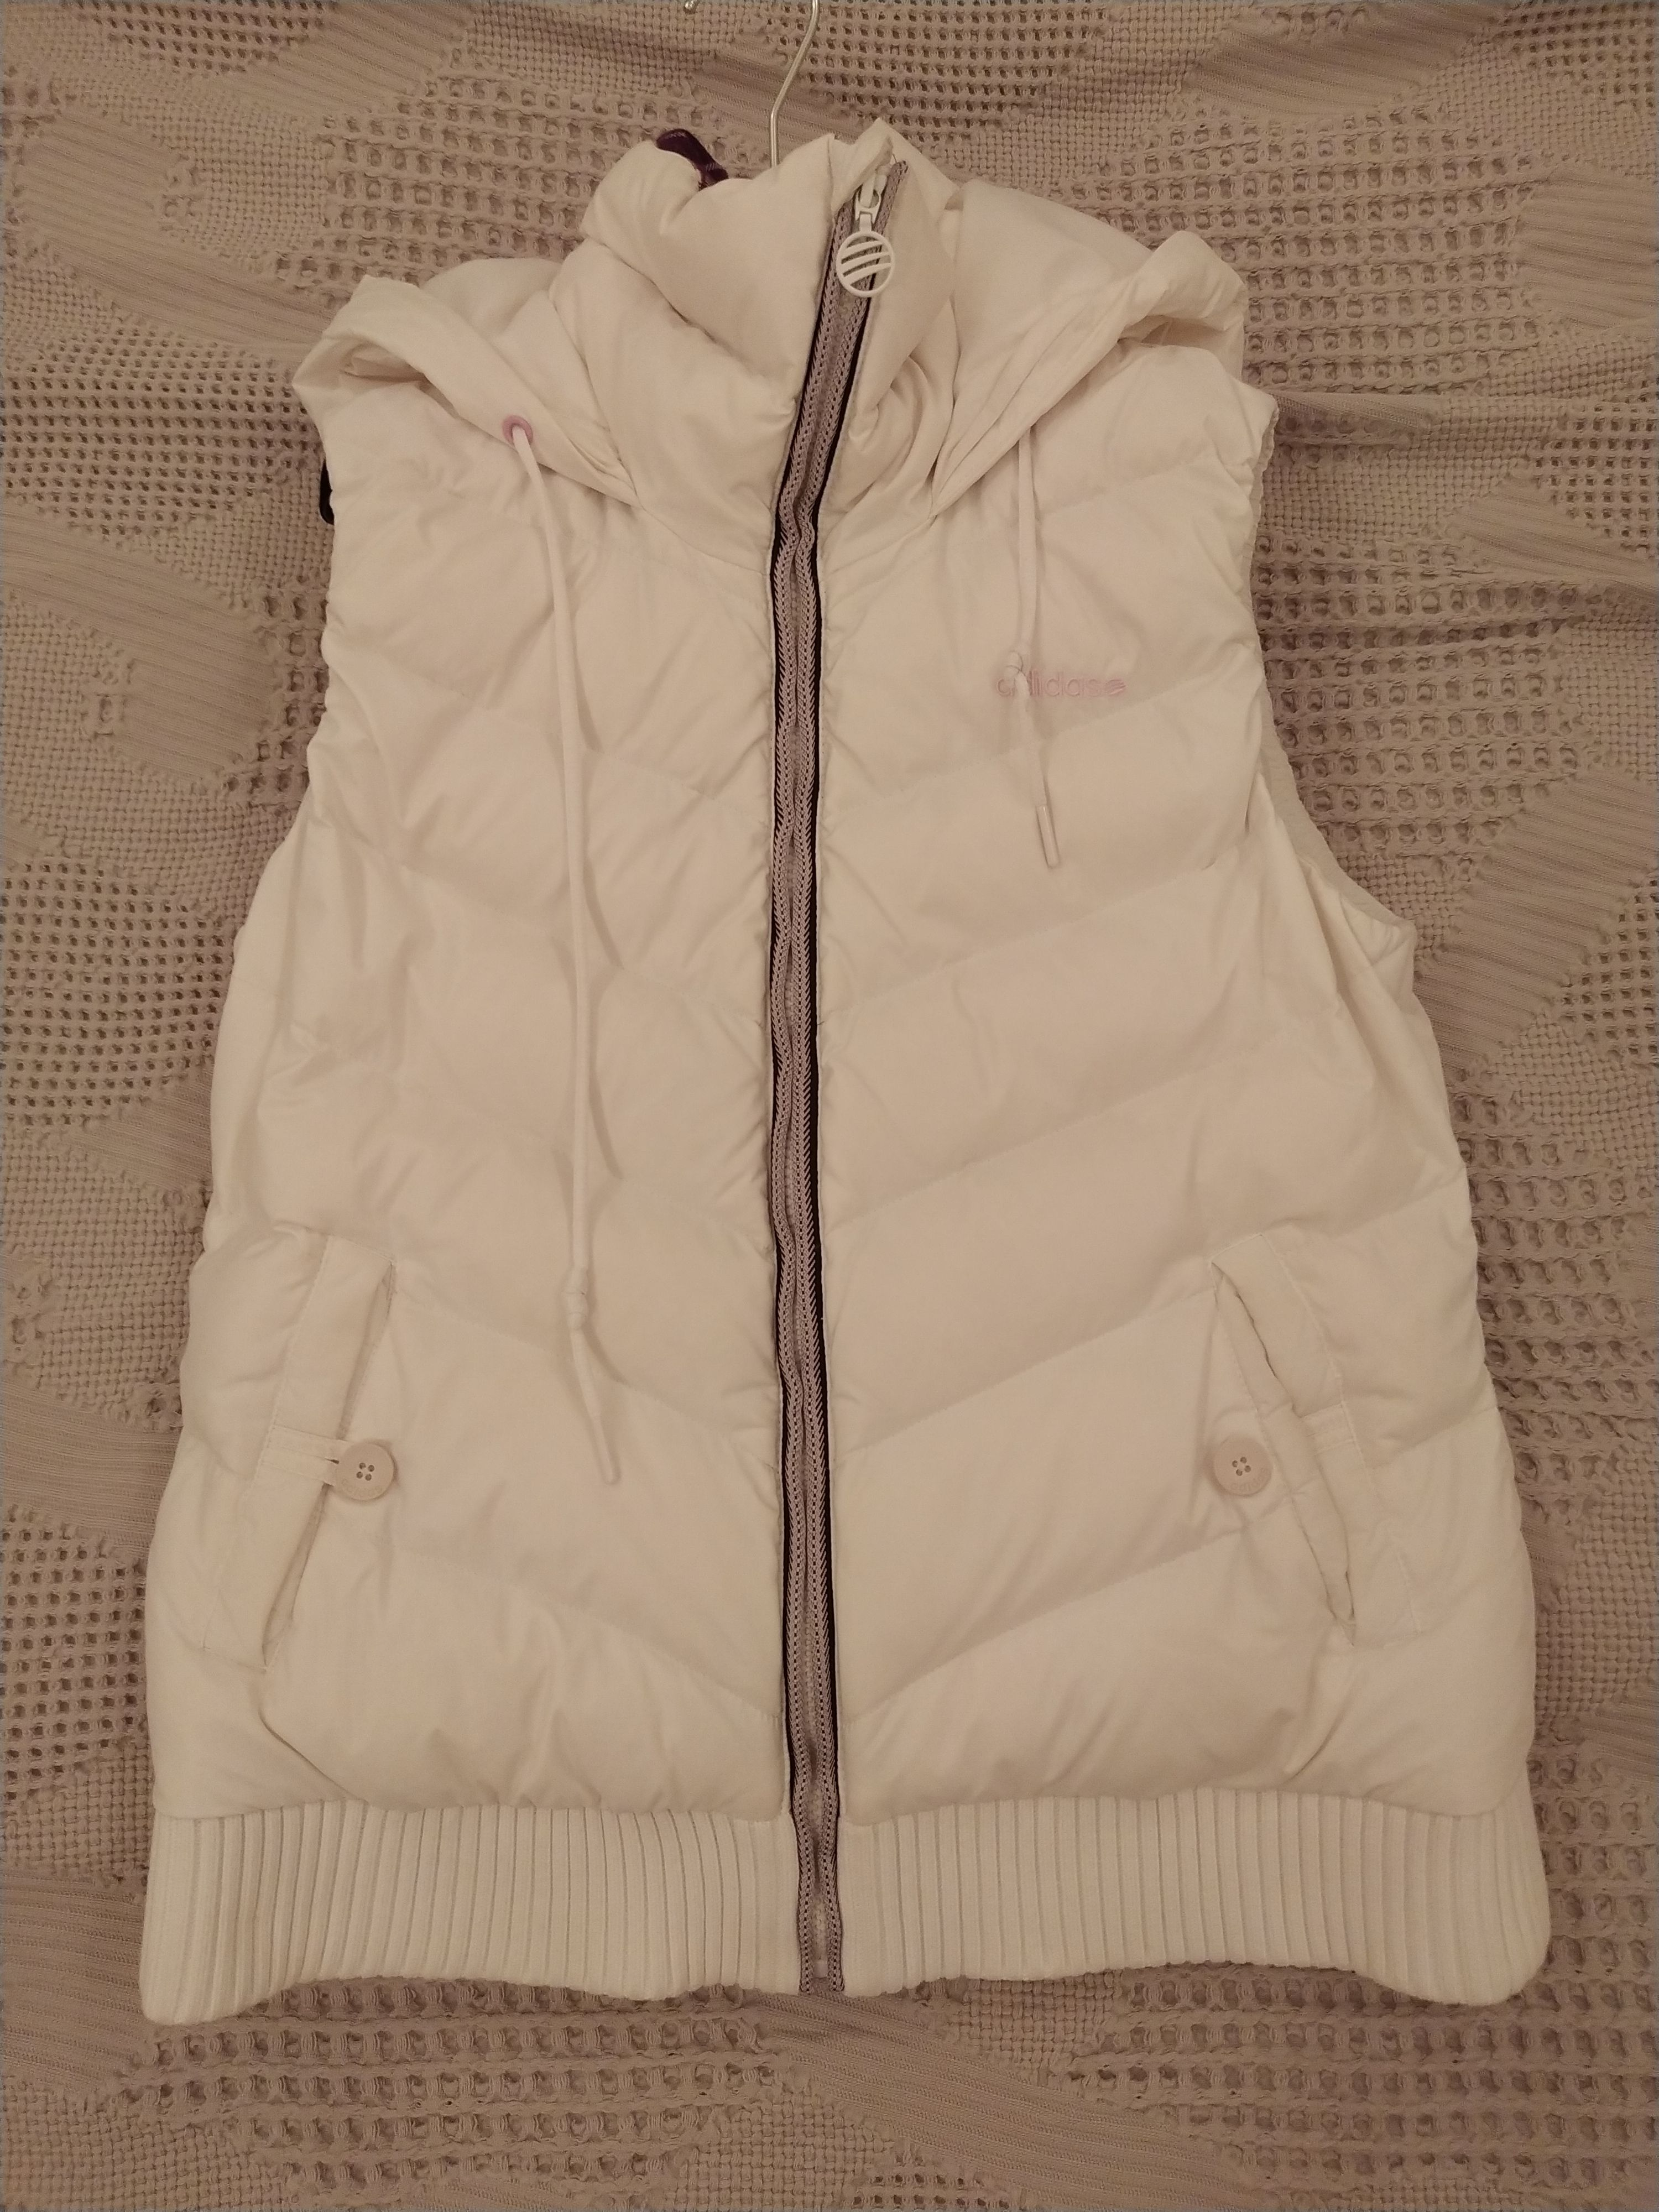clothes: (143, 117, 1560, 2057)
